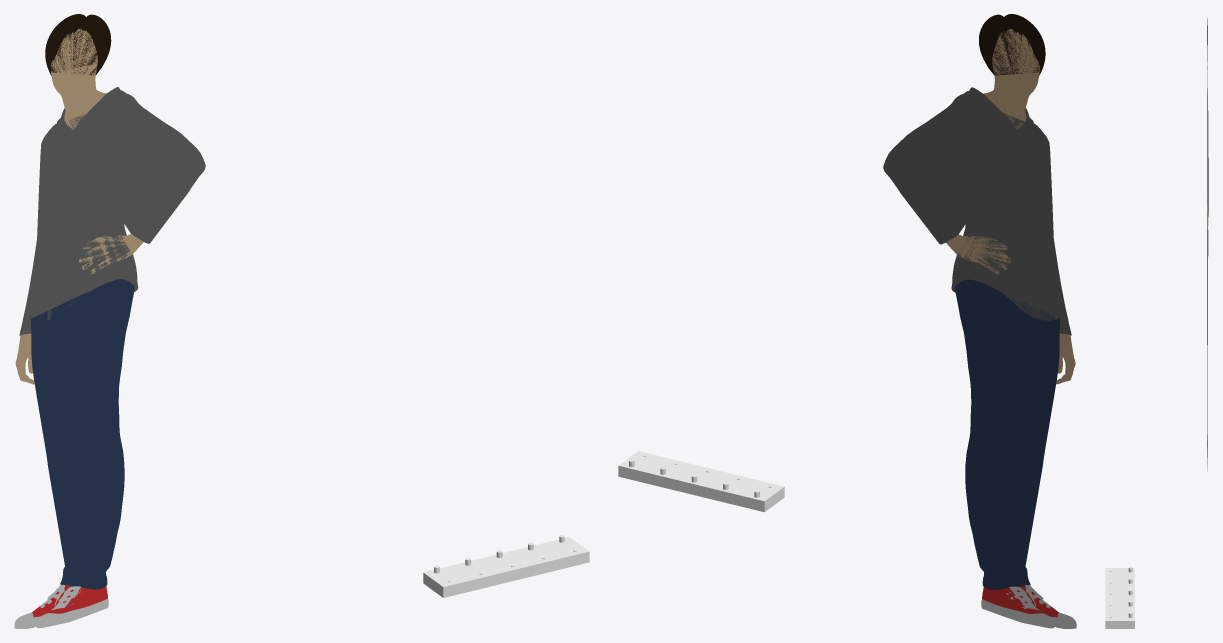
File: MishkaTrol1.fbx
3 renders of one model, left to right at view 1: azimuth 30°, elevation 25°; view 2: azimuth 150°, elevation 25°; view 3: azimuth 270°, elevation 25°, orthographic. The views are drawn at different scales.
Visible parts, largest first — view 1: Stacy1, Model; view 2: Stacy1, Model; view 3: Model, Stacy1.
Boxes of the visible parts, bbox=[...] form: Stacy1: bbox=[14, 14, 205, 628]; Model: bbox=[423, 535, 589, 597]; Stacy1: bbox=[883, 14, 1076, 628]; Model: bbox=[618, 451, 784, 512]; Model: bbox=[1105, 566, 1134, 628]; Stacy1: bbox=[1207, 18, 1208, 471].
Bounding box in the file's own units: 1456 × 1665 × 346.
